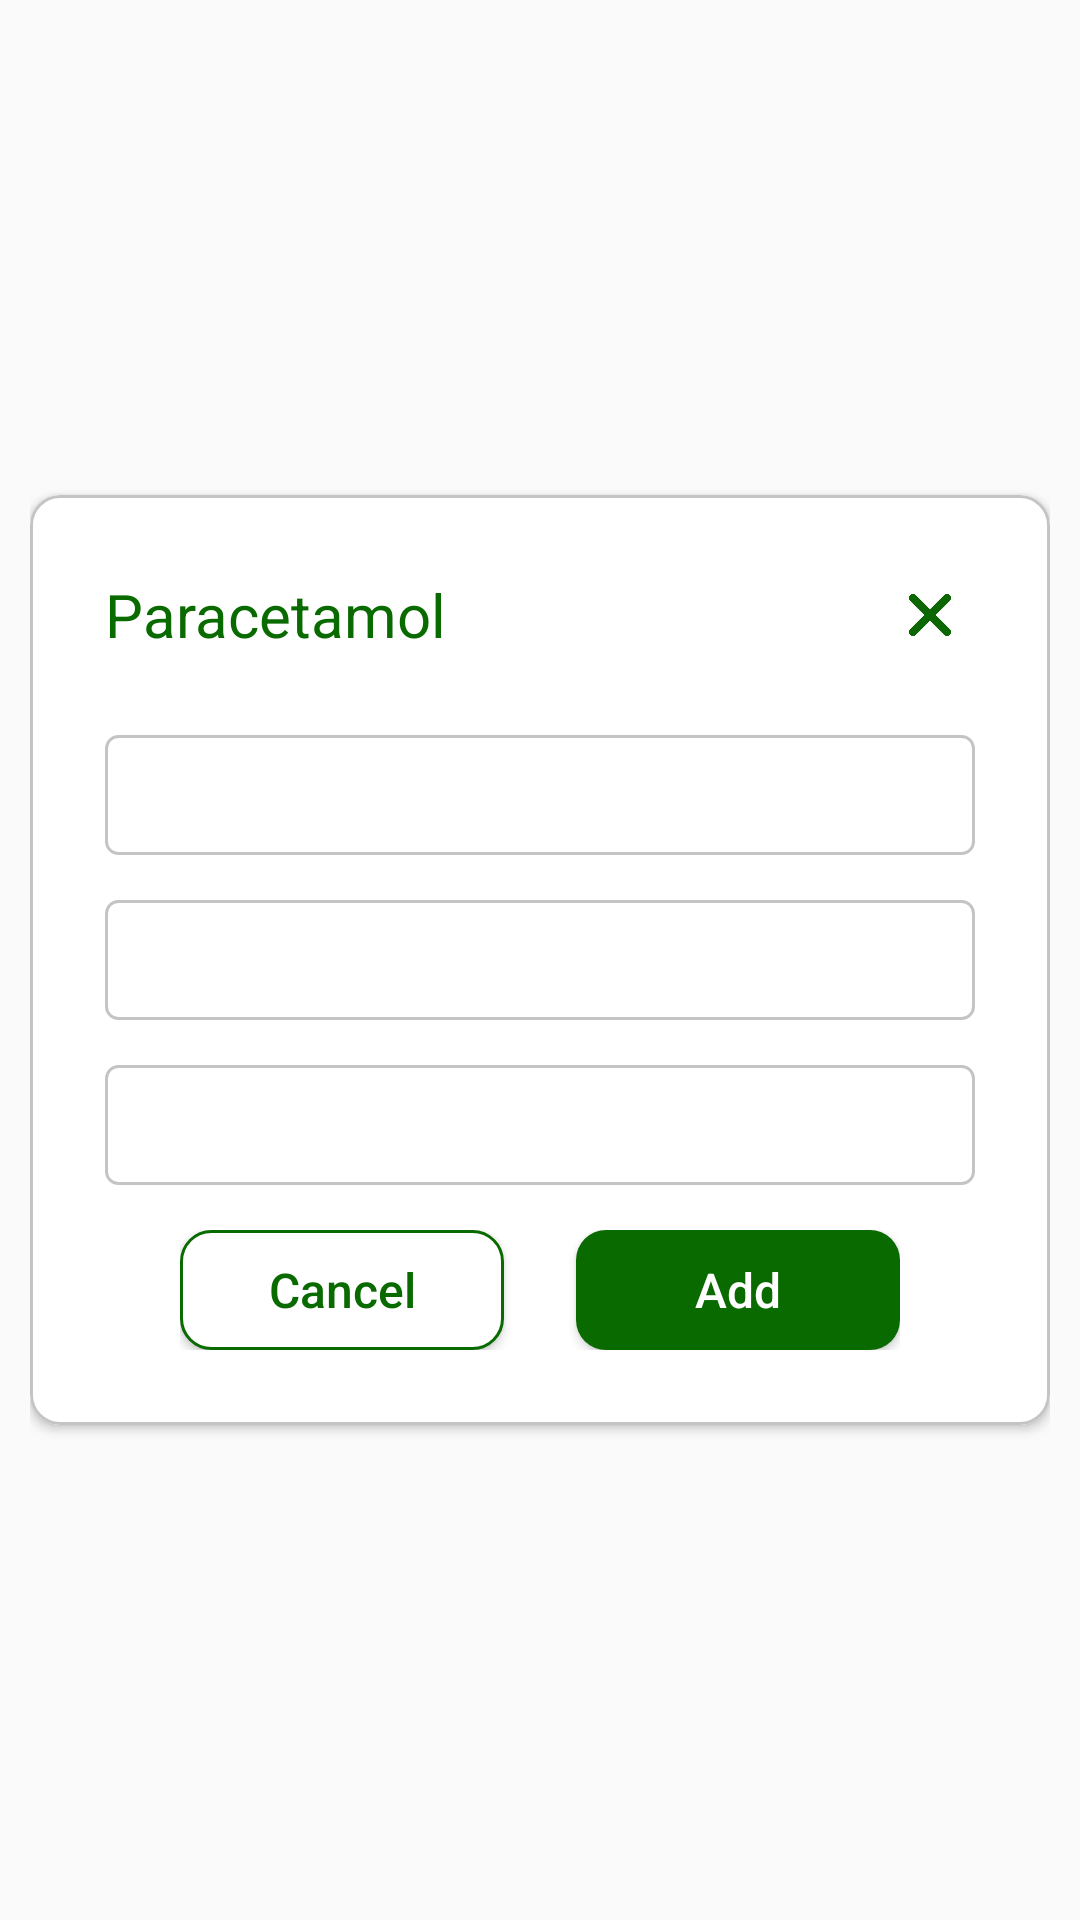

Icons on this 1080 × 1920 Android screen, each with the point to tap as (x,y):
cross: (930,615)
